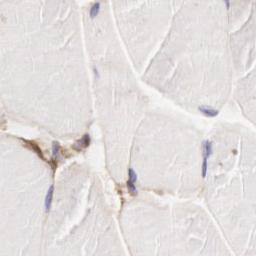nucleus: (45, 185, 54, 211), (200, 107, 218, 116), (203, 140, 213, 156), (91, 2, 99, 19), (129, 168, 138, 182), (202, 159, 207, 179), (51, 143, 60, 154), (92, 67, 99, 76), (224, 1, 230, 10), (77, 140, 83, 146), (130, 183, 136, 189)
positive_cell: (51, 141, 70, 159), (78, 132, 90, 148), (127, 180, 138, 197)
